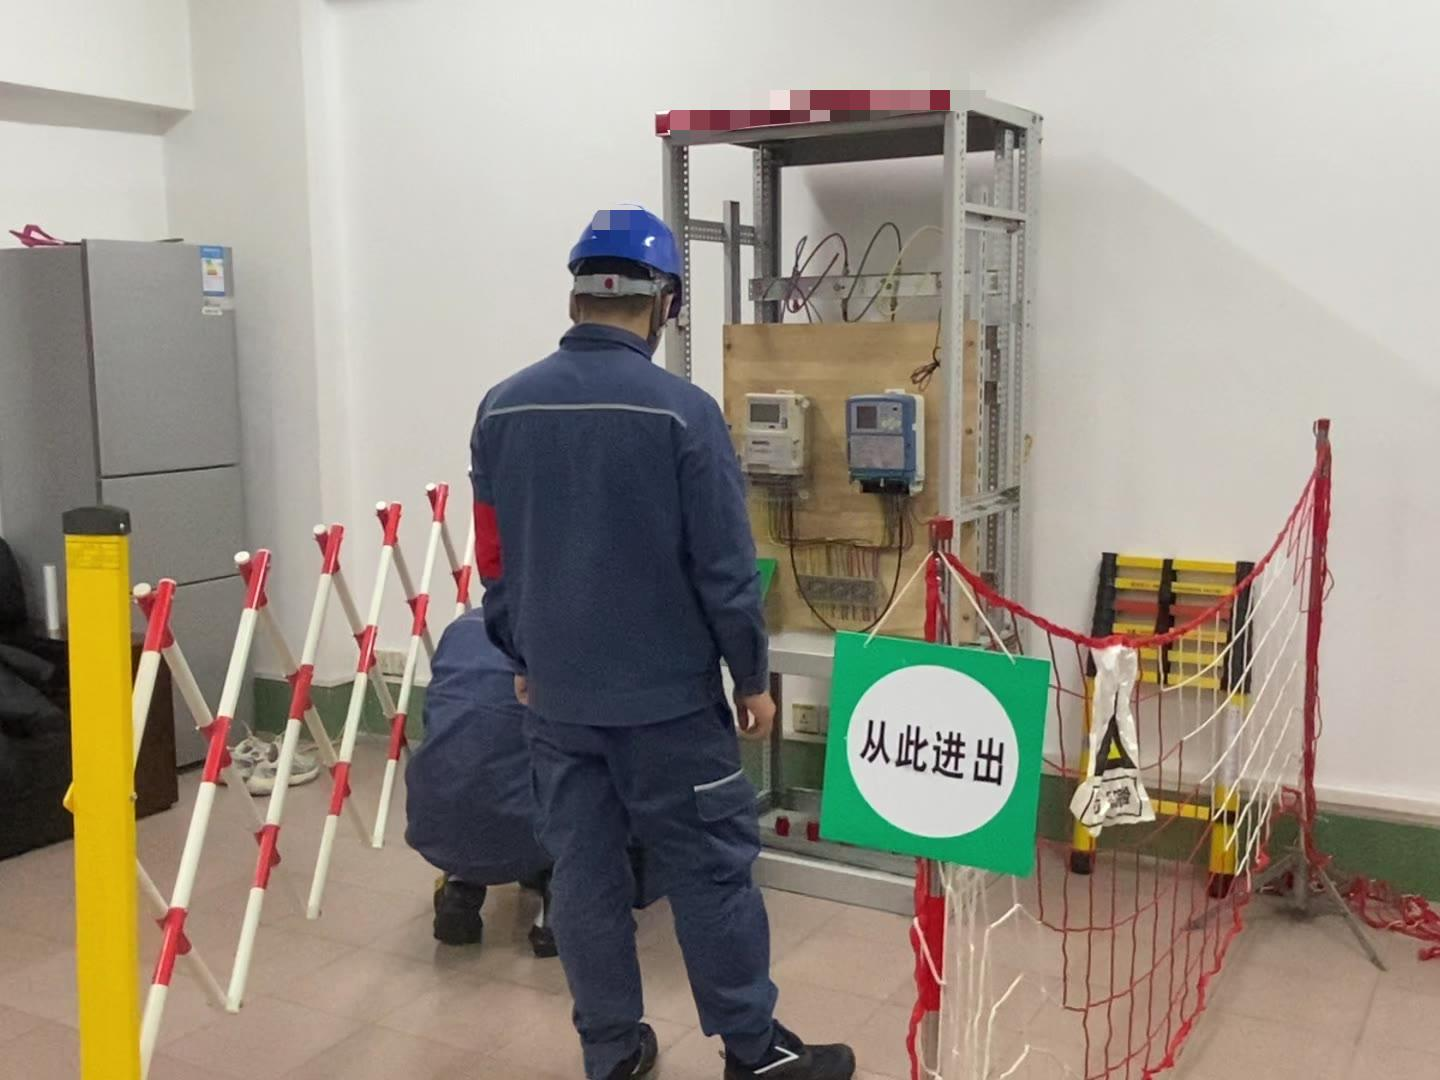halt: (564, 205, 693, 345)
inear: (649, 284, 680, 340)
